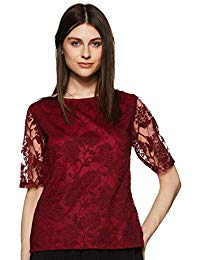tops: (17, 91, 180, 255)
